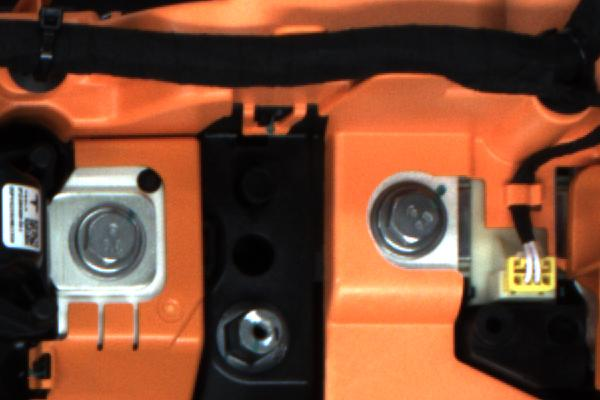nut_b: (64, 199, 159, 278), (378, 185, 453, 258)
